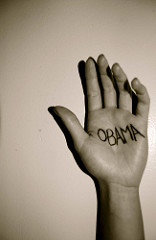palm: (83, 113, 149, 183)
